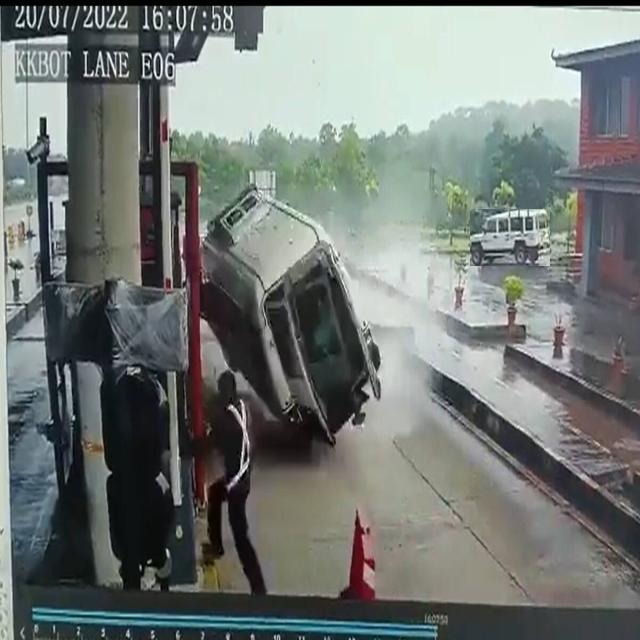accident: (201, 187, 380, 442)
car: (470, 209, 550, 266)
